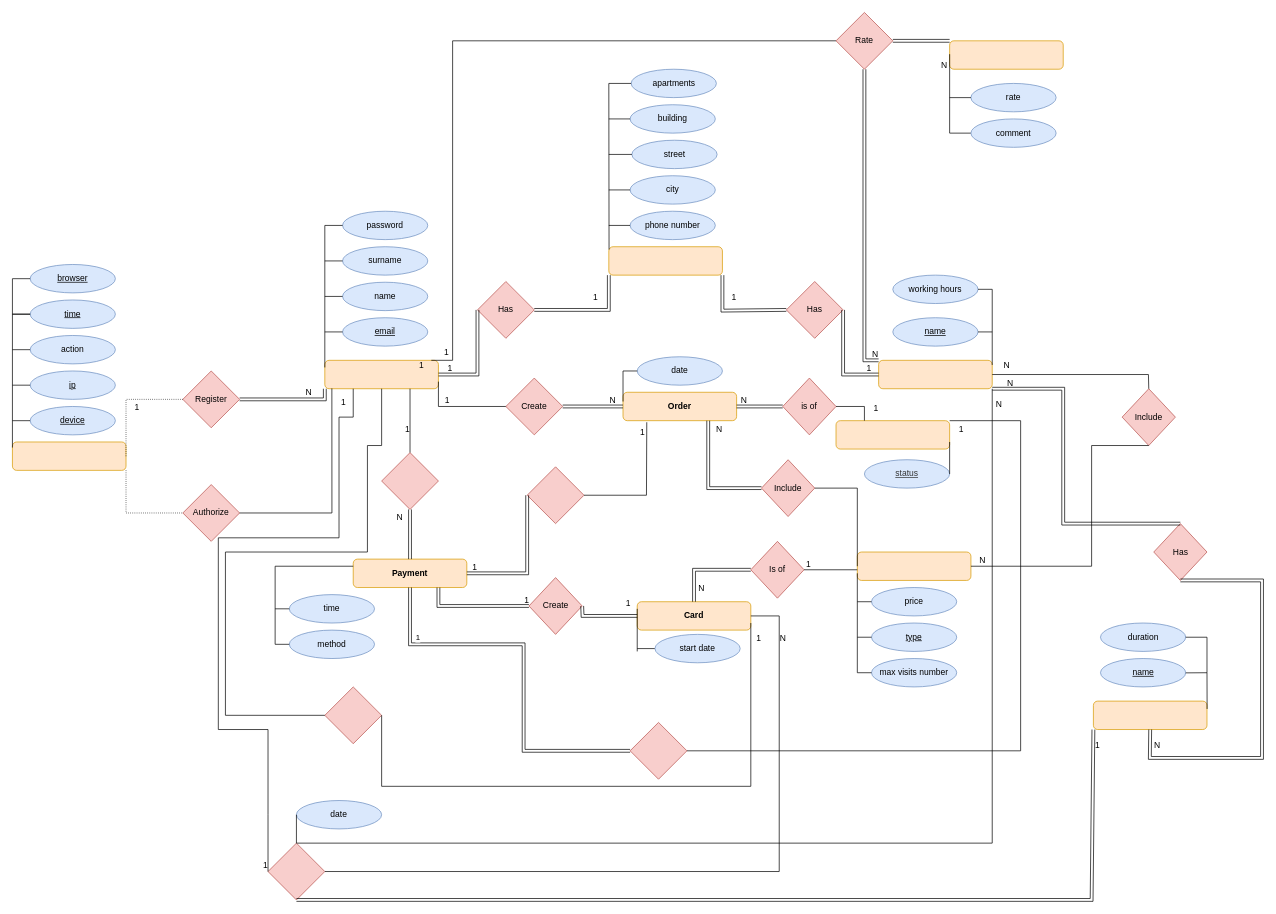
This 1276x914 diagram has some shape labels left out. The centre of each missing label's shape, as x and y in pixels:
Activity: the point at 1150,715
Card type: the point at 914,565
Change: the point at 658,750
Contacts: the point at 665,260
Get: the point at 353,715
Guest: the point at 69,455
Is paid: the point at 555,495
Make: the point at 409,480
Order status: the point at 892,434
Raiting: the point at 1006,54
Sportclub: the point at 935,374
User: the point at 381,374
Visit: the point at 296,871
